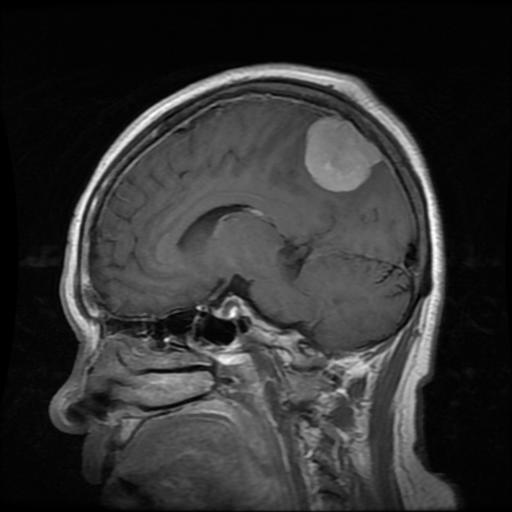Menigiomia_tumour: (303, 115, 377, 189)
